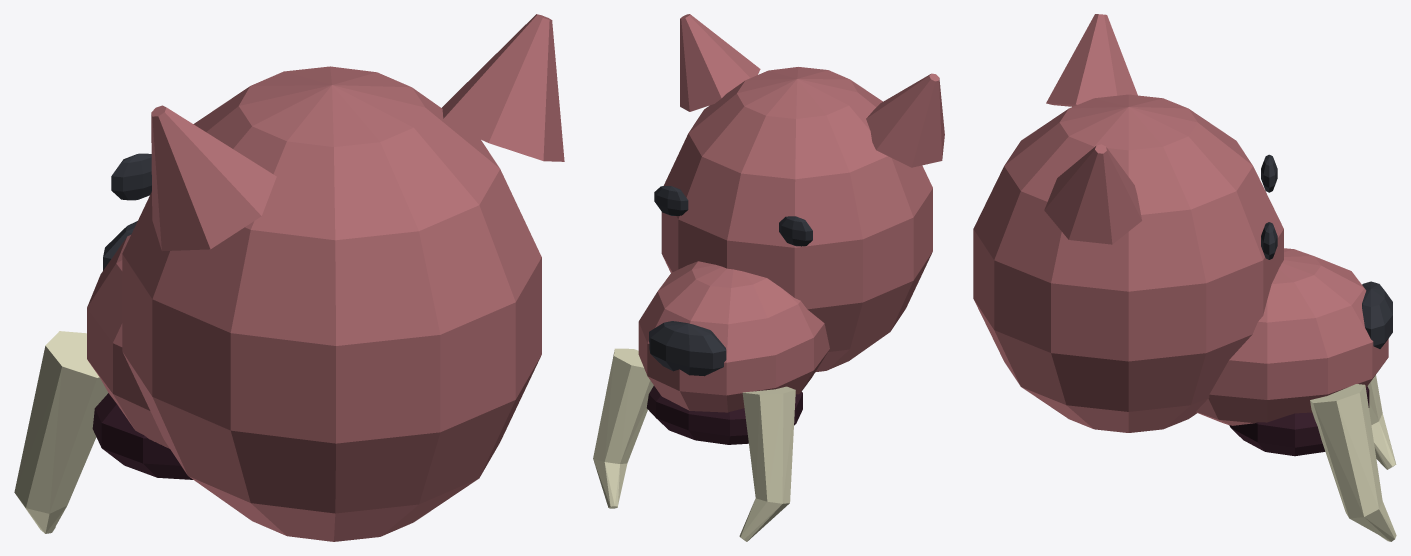
The model's file is chimera_a_head.obj.
The picture shows the model from 3 angles, left to right: view 1: azimuth 30°, elevation 25°; view 2: azimuth 150°, elevation 25°; view 3: azimuth 270°, elevation 25°; orthographic projection. The views are drawn at different scales.
Parts seen in each view (by area): view 1: chimera_a_head; view 2: chimera_a_head; view 3: chimera_a_head.
Boxes of the visible parts, left/top/right/bottom form: chimera_a_head: left=14, top=14, right=564, bottom=541; chimera_a_head: left=593, top=14, right=944, bottom=541; chimera_a_head: left=973, top=14, right=1396, bottom=541.
Size of the model in its own units: 0.4754 by 0.679 by 0.6111.
